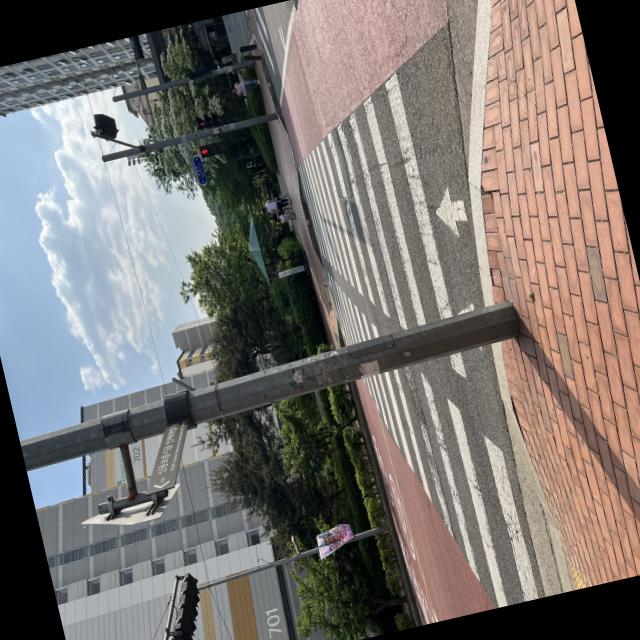red_light: (196, 108, 228, 132), (199, 135, 229, 155)
zebra: (274, 23, 576, 602)
